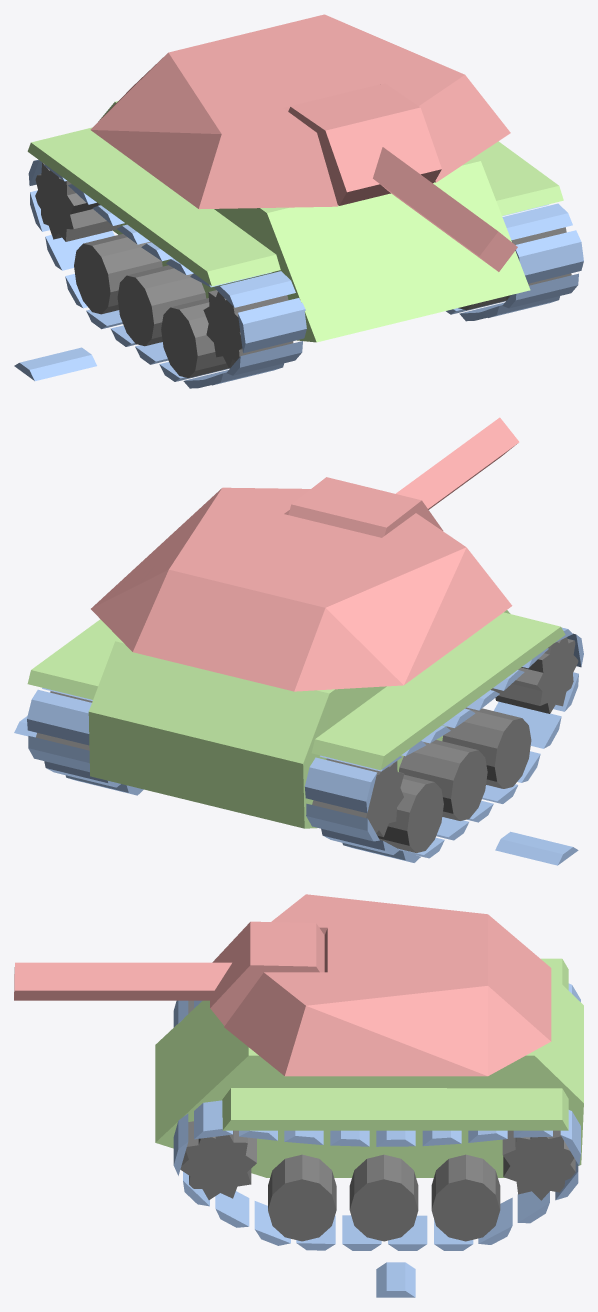
Rendered from mayaTank.fbx.
The picture shows the model from 3 angles, top to bottom: view 1: azimuth 30°, elevation 25°; view 2: azimuth 150°, elevation 25°; view 3: azimuth 270°, elevation 25°; orthographic projection. The views are drawn at different scales.
Visible parts, largest first — view 1: turret_tutorial_mesh, hull_tutorial_mesh, wheels_tutorial_mesh, template_tread_tutorial_mesh, l_tread_tutorial_mesh01; view 2: turret_tutorial_mesh, hull_tutorial_mesh, wheels_tutorial_mesh, template_tread_tutorial_mesh, l_tread_tutorial_mesh01; view 3: turret_tutorial_mesh, hull_tutorial_mesh, wheels_tutorial_mesh, template_tread_tutorial_mesh, r_tread_tutorial_mesh01.
Part boxes in pixels (x1=…): turret_tutorial_mesh: x1=90, y1=14, x2=517, y2=271; hull_tutorial_mesh: x1=27, y1=101, x2=563, y2=342; wheels_tutorial_mesh: x1=35, y1=162, x2=571, y2=377; template_tread_tutorial_mesh: x1=28, y1=159, x2=583, y2=388; l_tread_tutorial_mesh01: x1=14, y1=347, x2=96, y2=381; turret_tutorial_mesh: x1=91, y1=417, x2=519, y2=691; hull_tutorial_mesh: x1=27, y1=610, x2=565, y2=828; wheels_tutorial_mesh: x1=36, y1=637, x2=578, y2=852; template_tread_tutorial_mesh: x1=27, y1=627, x2=583, y2=862; l_tread_tutorial_mesh01: x1=495, y1=831, x2=578, y2=865; turret_tutorial_mesh: x1=14, y1=894, x2=551, y2=1076; hull_tutorial_mesh: x1=155, y1=958, x2=583, y2=1177; wheels_tutorial_mesh: x1=180, y1=1000, x2=575, y2=1241; template_tread_tutorial_mesh: x1=173, y1=983, x2=580, y2=1250; r_tread_tutorial_mesh01: x1=376, y1=1262, x2=415, y2=1297.
Bounding box in the file's own units: 565 × 244 × 548.
